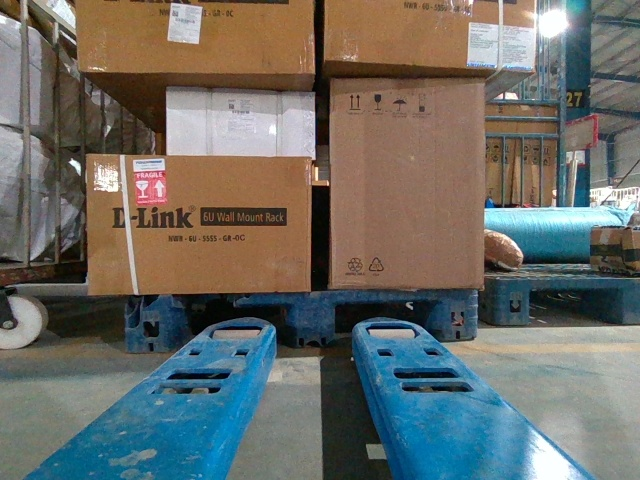block: (124, 295, 184, 353), (284, 292, 337, 347), (426, 288, 479, 340), (492, 278, 533, 326), (618, 279, 639, 329)
front: (125, 291, 480, 352)
hole pallet: (182, 306, 288, 349), (334, 299, 429, 344), (527, 291, 620, 324), (335, 304, 406, 340)
